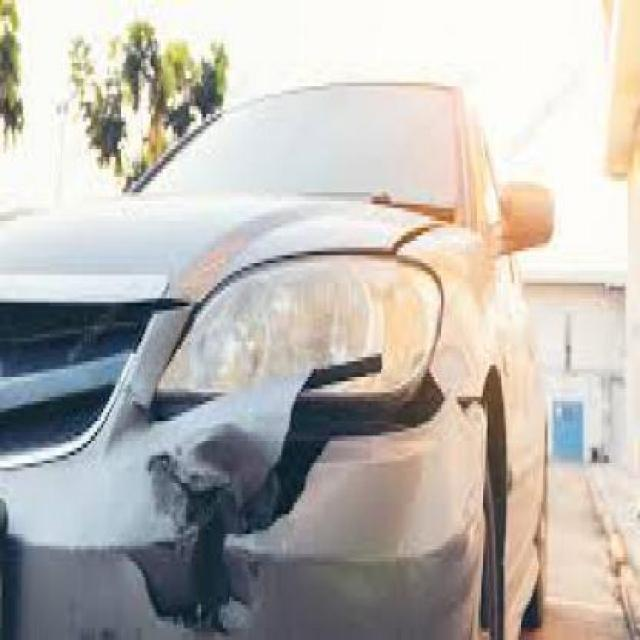damaged-front-bumper: (0, 400, 489, 636)
